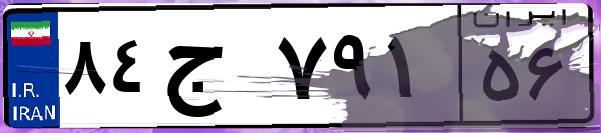1: (385, 28, 445, 110)
4: (110, 28, 158, 98)
5: (475, 38, 525, 113)
6: (525, 38, 570, 115)
7: (270, 28, 330, 110)
8: (57, 26, 110, 100)
9: (330, 28, 385, 110)
ج: (158, 20, 270, 120)
